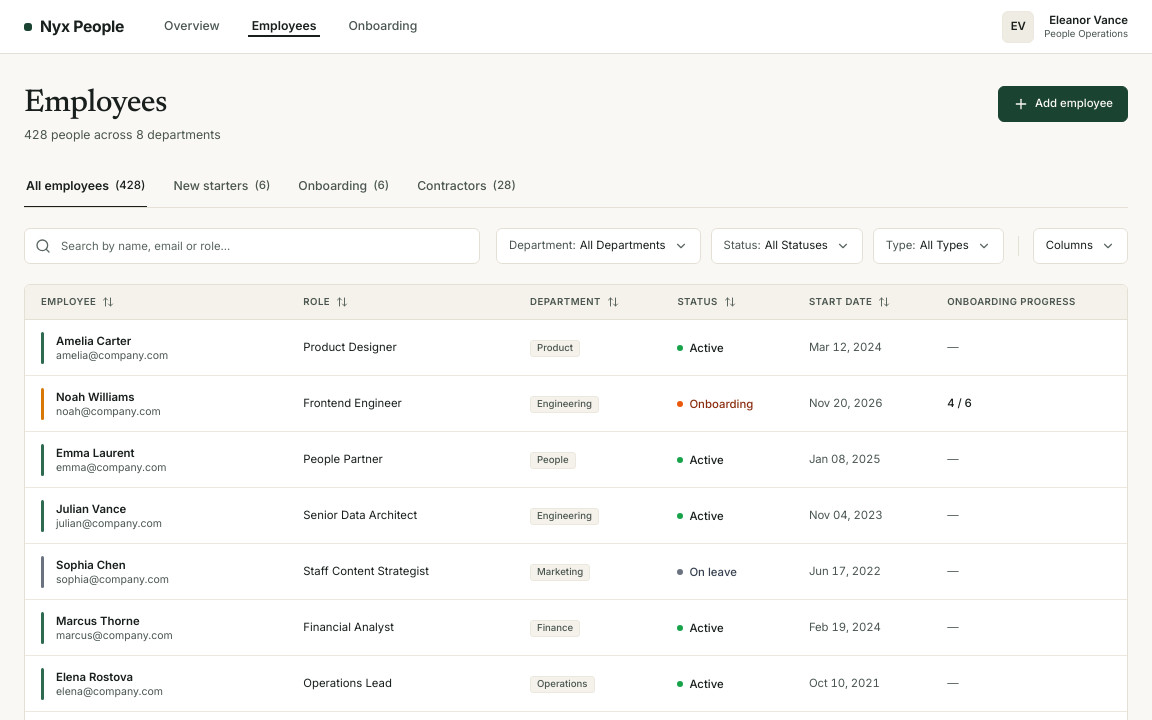
Test: EmployeeDirectory Integration › displays empty state when filter returns no matches and allows resetting
expect the link "Amelia Carter" is shown: met, box [56, 334, 131, 348]
Type "NonExistentPersonNameXYZ" into the search field named "search employees by name, email or role". click: (252, 246)
box: [24, 228, 480, 264]
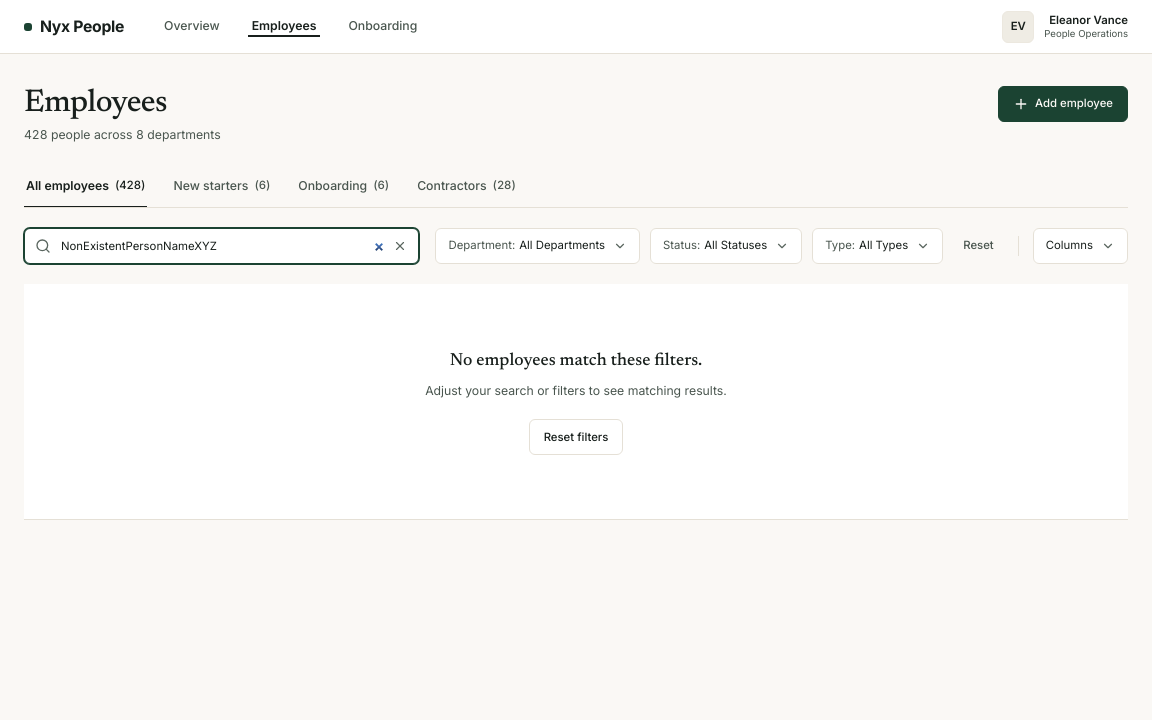
expect the heading "No employees match these filters." is shown: met, box [450, 348, 702, 374]
Note: Reset filters button in empty state
Click the button "Reset filters". click: click(576, 437)
box: [529, 419, 623, 455]
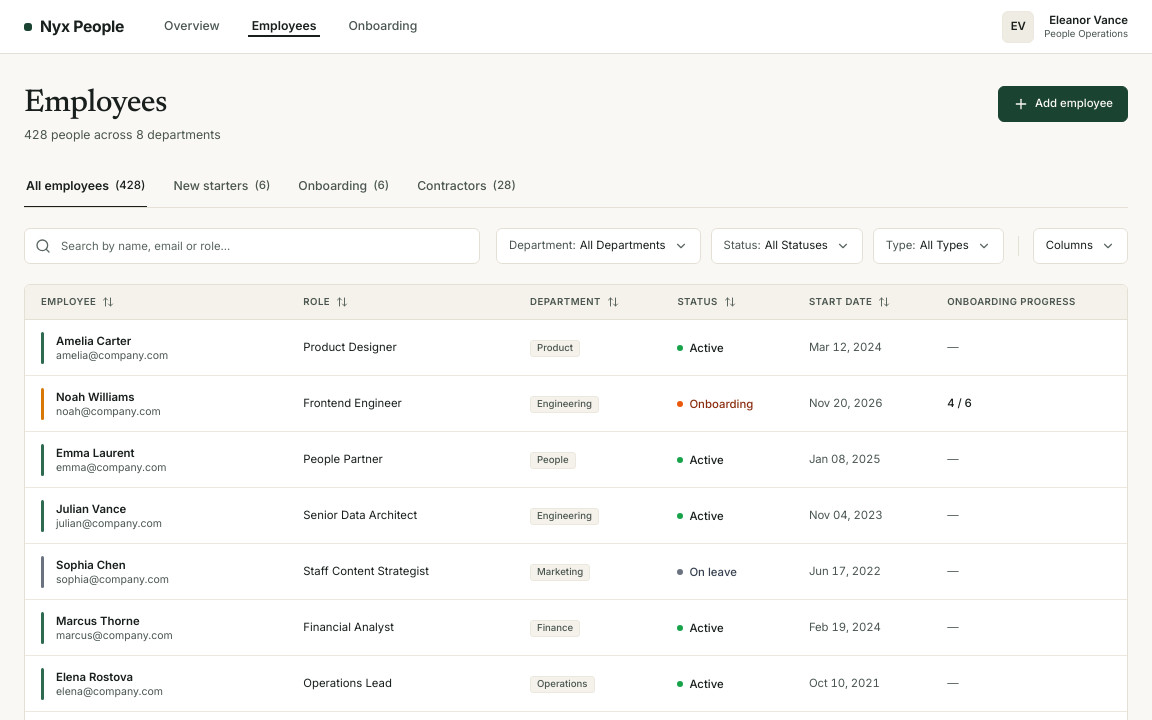
expect the link "Amelia Carter" is shown: met, box [56, 334, 131, 348]
